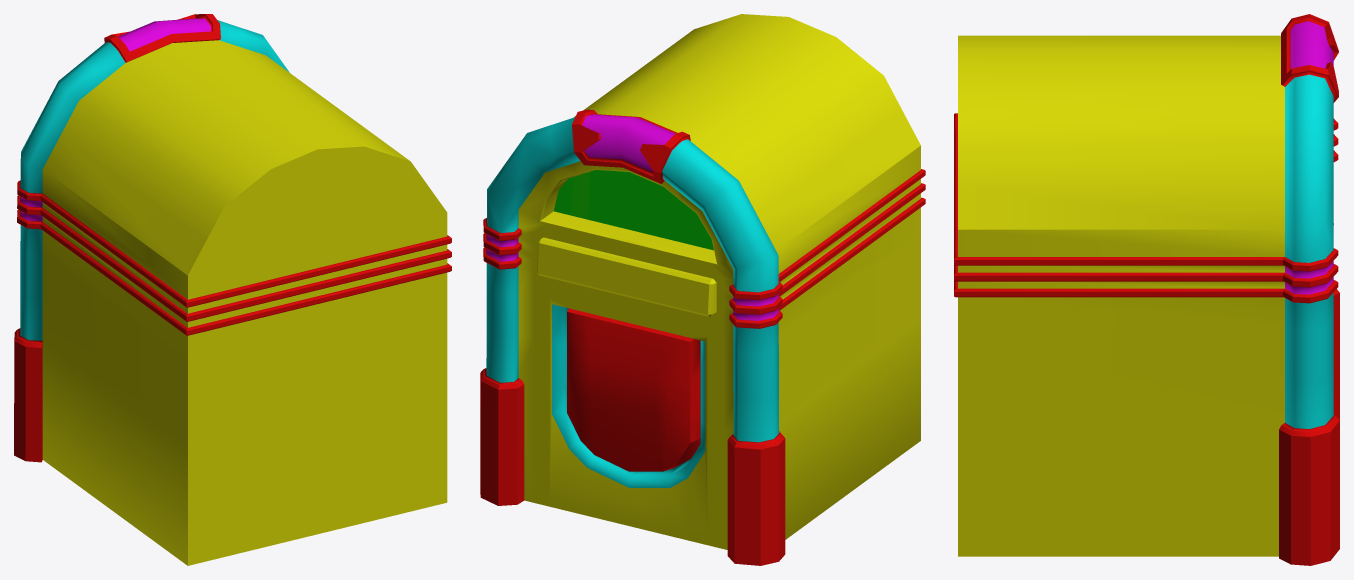
Rendered from JukeBox.fbx.
3 renders of one model, left to right at view 1: azimuth 30°, elevation 25°; view 2: azimuth 150°, elevation 25°; view 3: azimuth 270°, elevation 25°, orthographic. The views are drawn at different scales.
Visible parts, largest first — view 1: Jukebox4; view 2: Jukebox4; view 3: Jukebox4.
Part boxes in pixels (x1,y1,x2,y2): Jukebox4: (14,14,451,565); Jukebox4: (480,14,925,565); Jukebox4: (954,14,1339,565).
Bounding box in the file's own units: 196 × 255 × 198.
